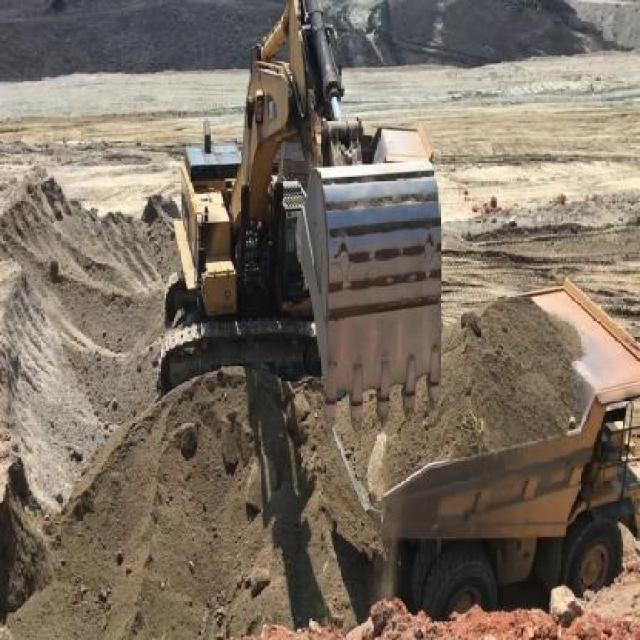dump_truck: (330, 268, 638, 597)
excavator: (157, 0, 445, 455)
